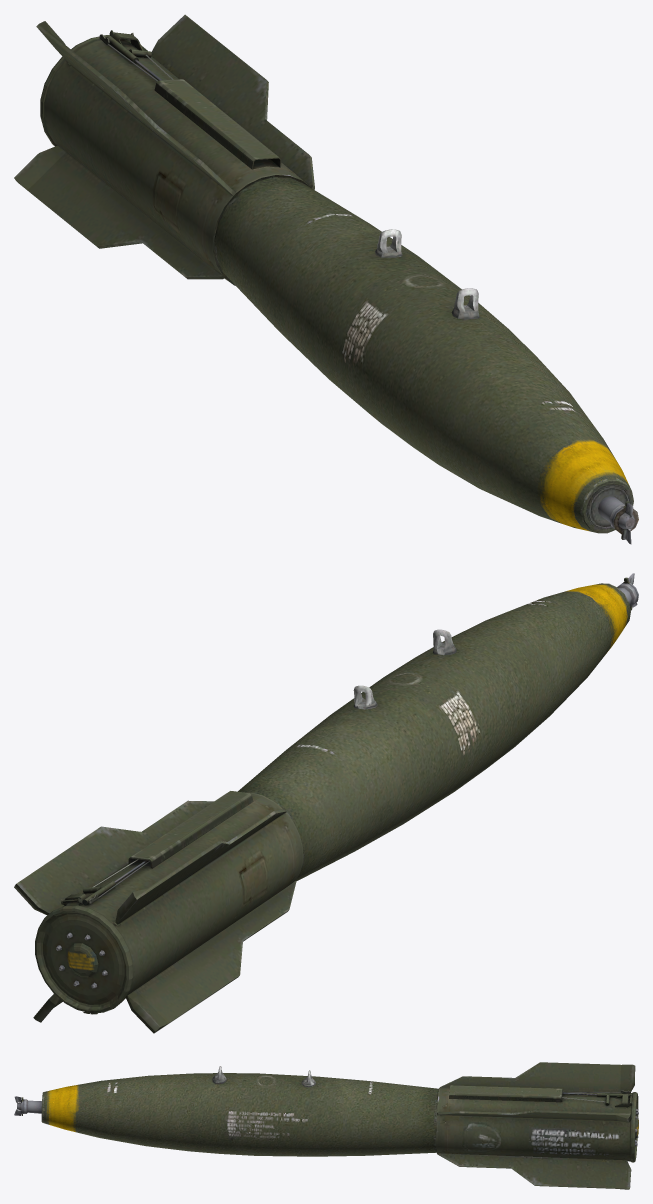
3 renders of one model, top to bottom at view 1: azimuth 30°, elevation 25°; view 2: azimuth 150°, elevation 25°; view 3: azimuth 270°, elevation 25°, orthographic. The views are drawn at different scales.
Visible parts, largest first — view 1: Body; view 2: Body; view 3: Body.
Part boxes in pixels (x1,y1,x2,y2): Body: (14,14,638,544); Body: (14,573,638,1033); Body: (14,1062,638,1189).
Size of the model in its own units: 0.4082 by 0.3976 by 2.21.
